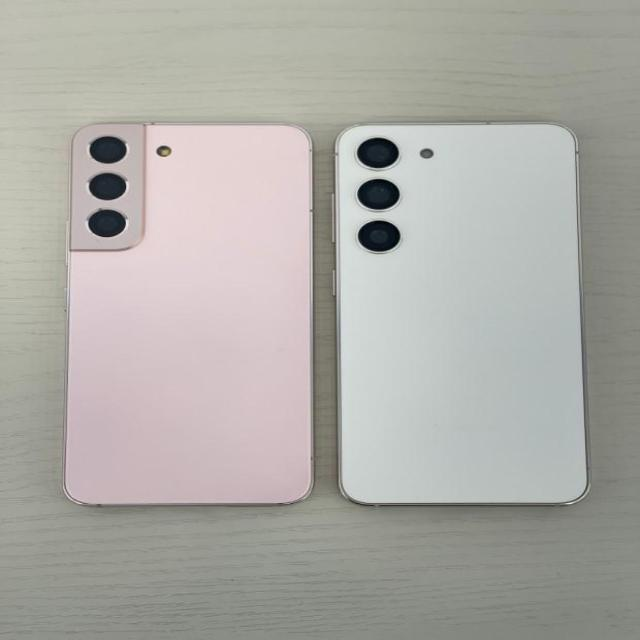mobile-phone: (337, 120, 592, 510), (69, 120, 318, 510)
